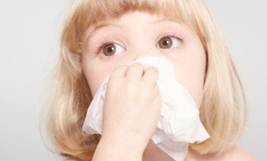face: (85, 8, 201, 140)
